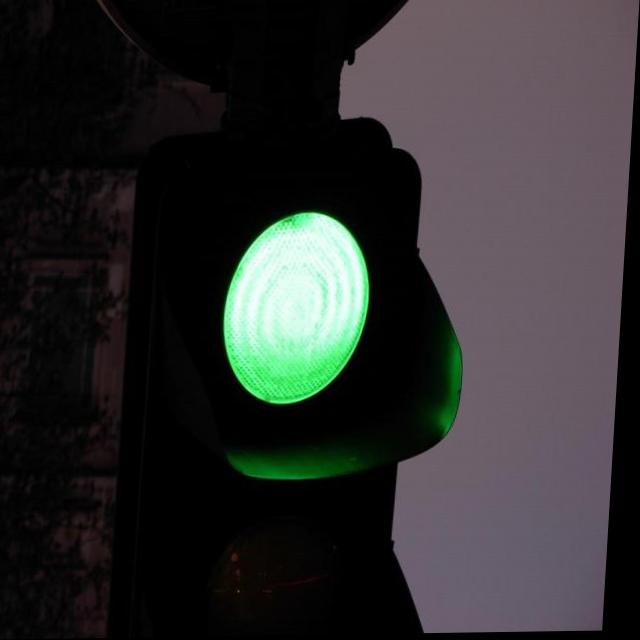green light: (170, 165, 410, 630)
